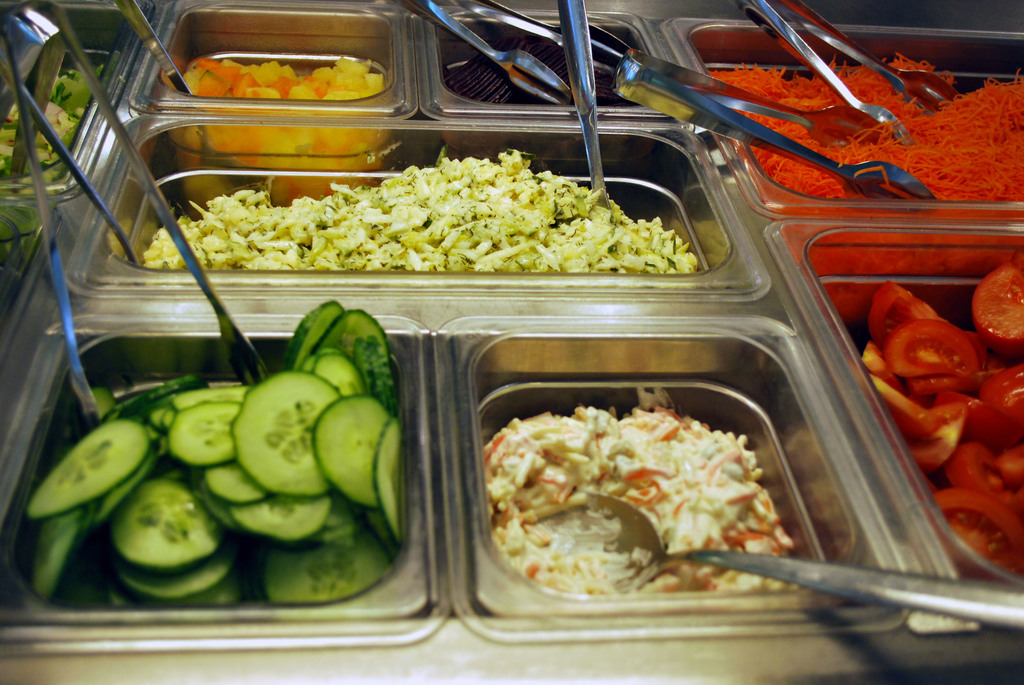salad: (477, 391, 792, 603)
